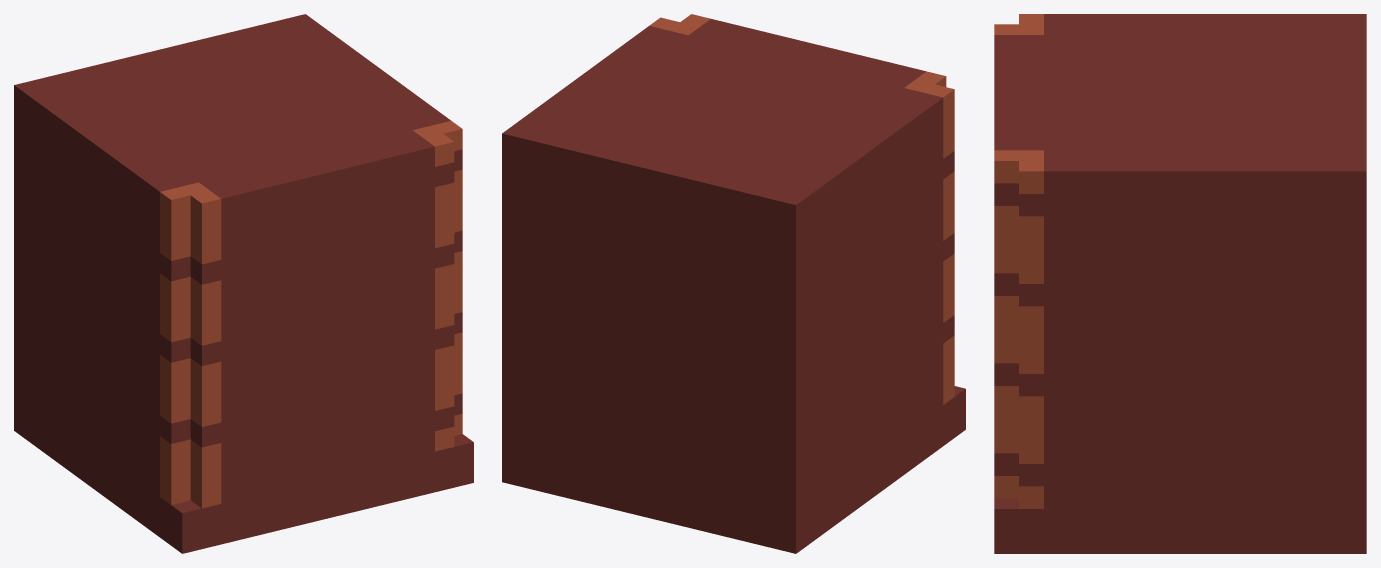
The model's file is dungeon_b_b_outer_wall_segment_b.obj.
3 views of the same model, side by side, from view 1: azimuth 30°, elevation 25°; view 2: azimuth 150°, elevation 25°; view 3: azimuth 270°, elevation 25° (orthographic). The views are drawn at different scales.
Size of the model in its own units: 1.5 by 1.7 by 1.5.
1 material, 1 textured.
